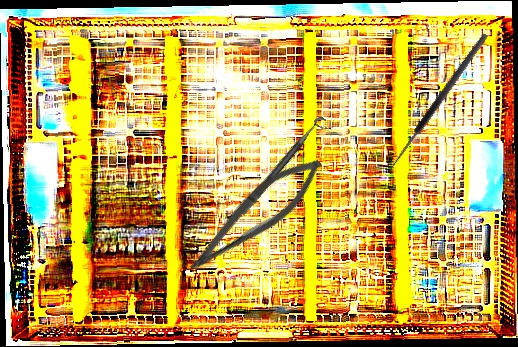Fixation Ring: (238, 114, 334, 223)
Hook Surgical: (385, 32, 496, 180)
Micro Scissor: (180, 143, 332, 289)
